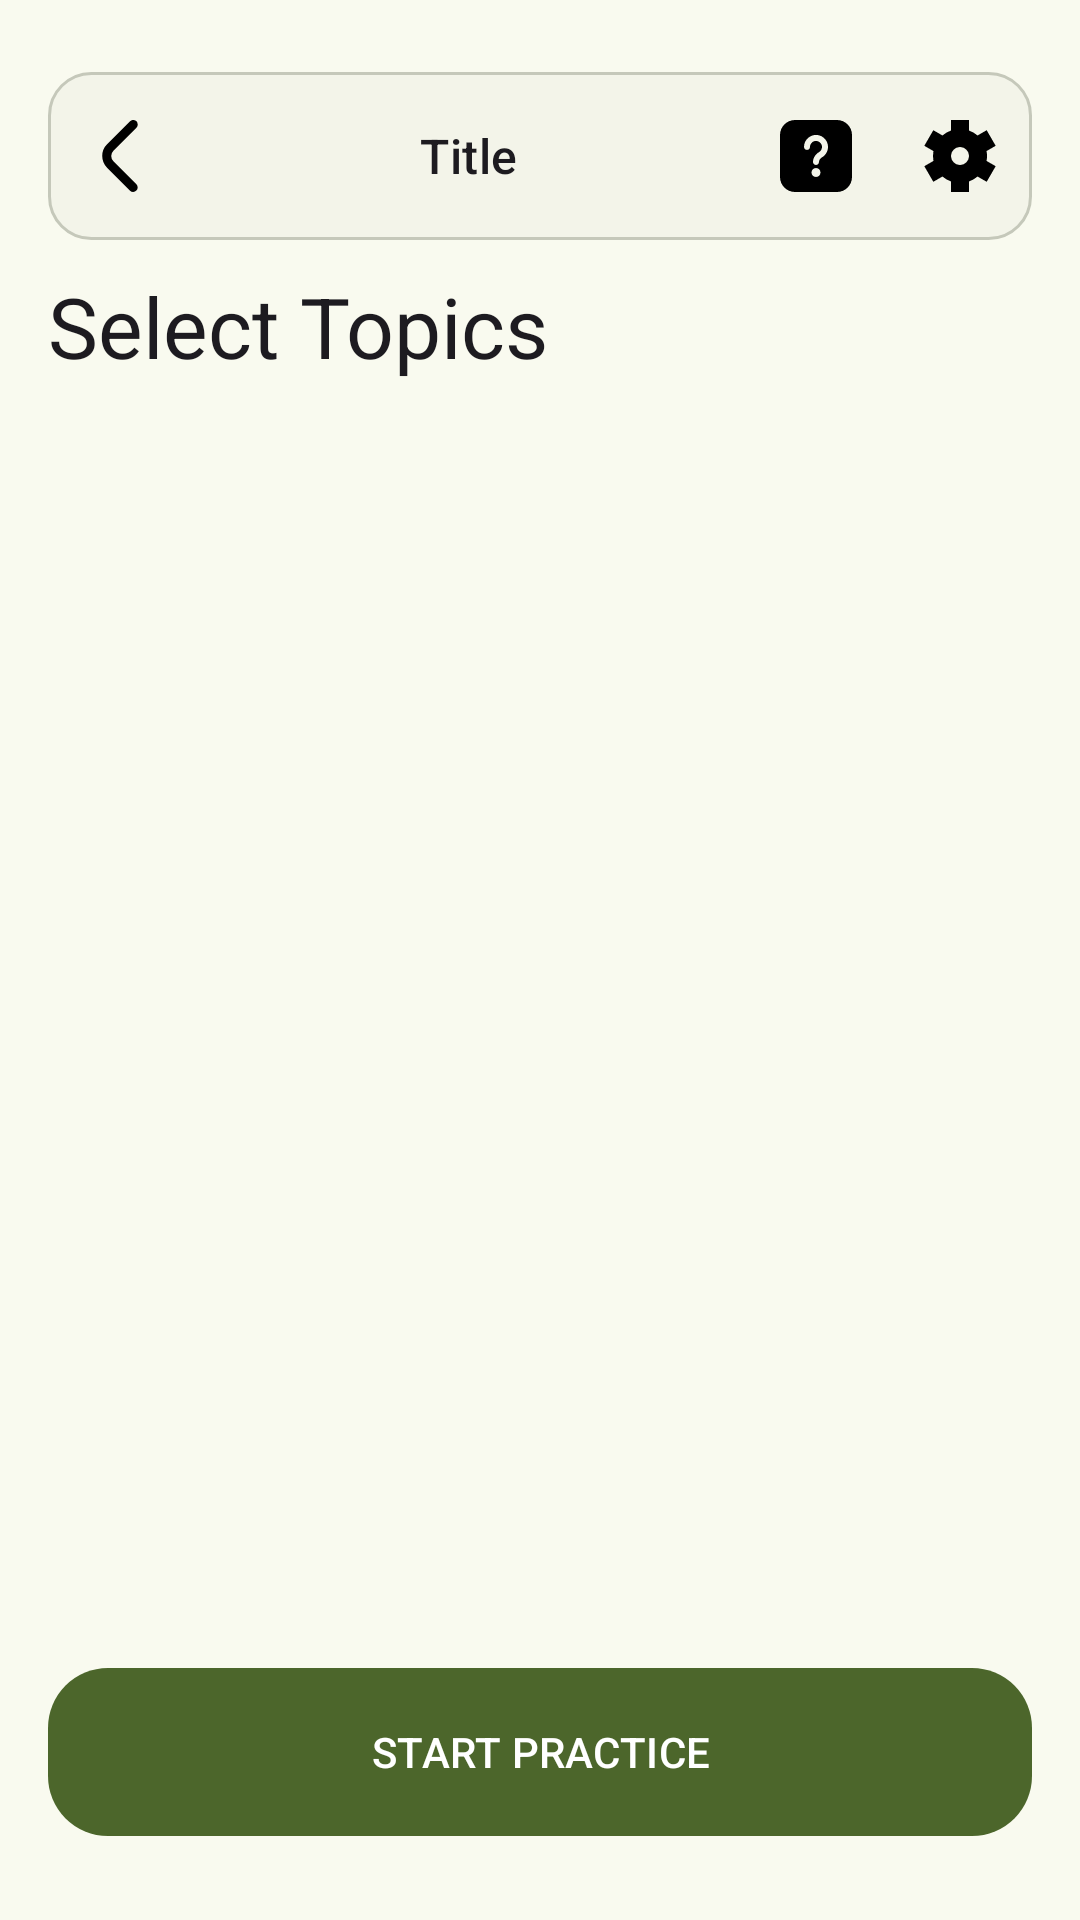

Icons on this 1080px x 1920px Android screen, each with its box as (x1, y1, x2, y2):
Back button: (102, 120, 138, 192)
Hints: (780, 120, 852, 192)
Options: (924, 120, 996, 192)
